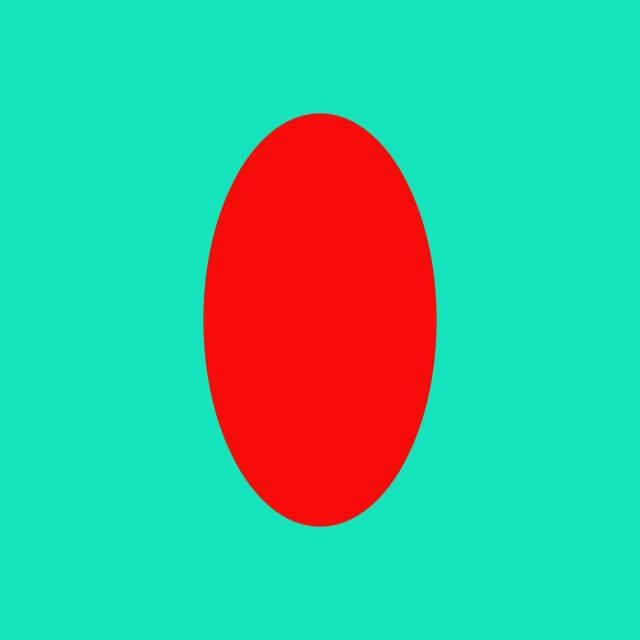Circle: (200, 113, 438, 531)
